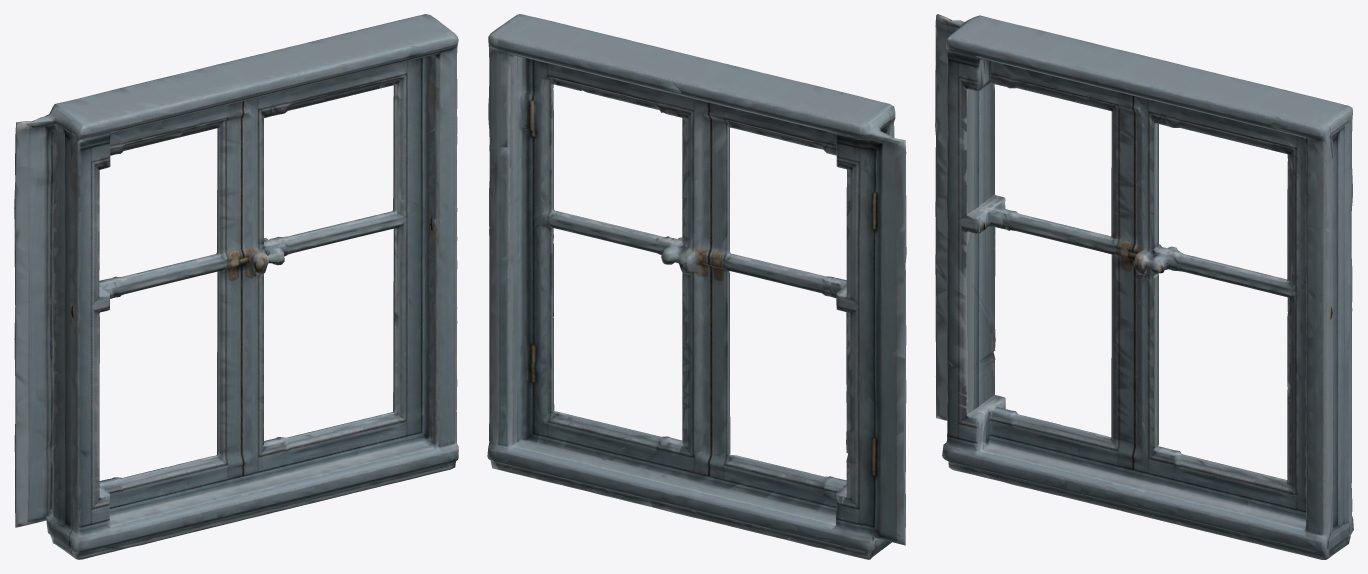
File: rect-window-frame.glb
3 renders of one model, left to right at view 1: azimuth 30°, elevation 25°; view 2: azimuth 150°, elevation 25°; view 3: azimuth 330°, elevation 25°, orthographic.
Parts seen in each view (by area): view 1: geometry_0; view 2: geometry_0; view 3: geometry_0.
Part boxes in pixels (left/top/right/bottom): geometry_0: left=14, top=14, right=458, bottom=559; geometry_0: left=487, top=14, right=906, bottom=559; geometry_0: left=935, top=14, right=1353, bottom=559.
Size of the model in its own units: 1.97 by 1.96 by 0.2602.
1 material, 1 textured.
